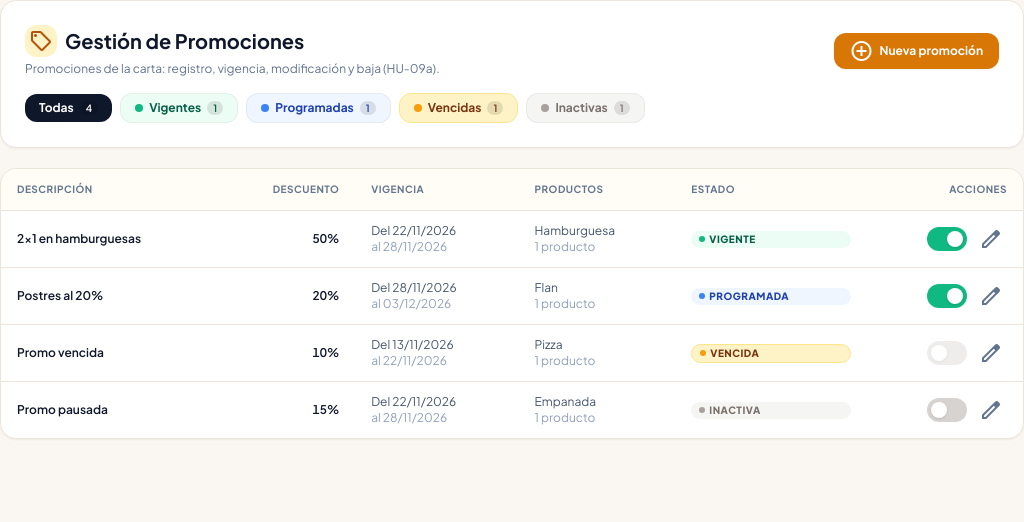
PromocionesPage › muestra el error de superposición al activar (CA5)
Click the switch named "Promo pausada activa": (947, 410) [927,398,967,422]
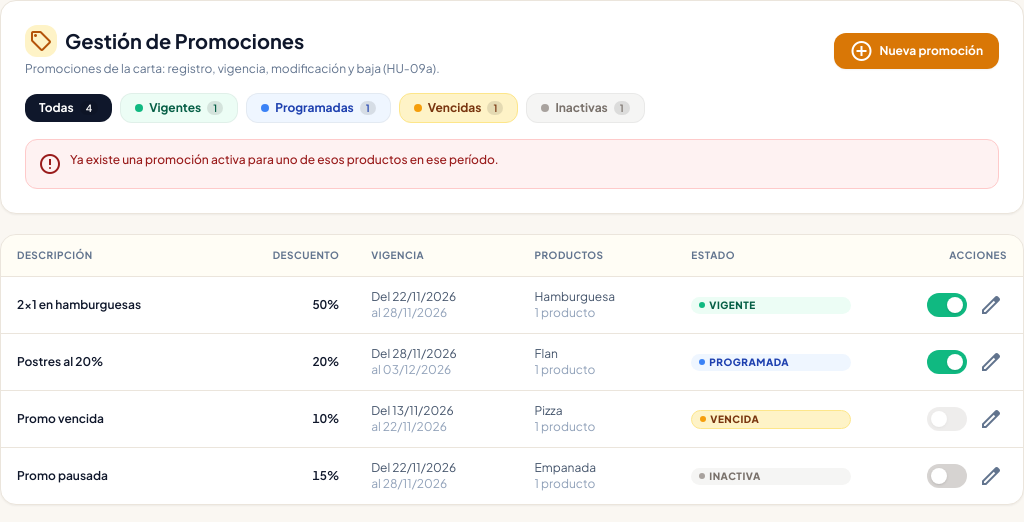
Result: the text "Ya existe una promoción activa para uno de esos productos en ese período." is shown at [70,152,499,167]
